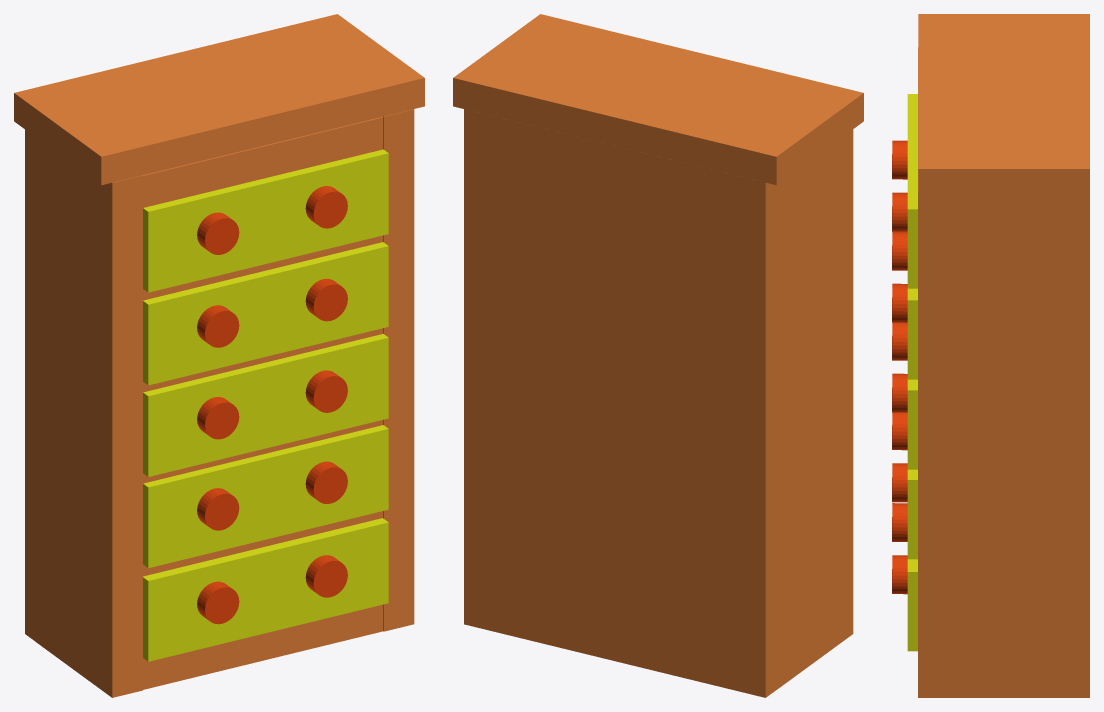
File: dresser.fbx
The picture shows the model from 3 angles, left to right: view 1: azimuth 30°, elevation 25°; view 2: azimuth 150°, elevation 25°; view 3: azimuth 270°, elevation 25°; orthographic projection.
Visible parts, largest first — view 1: Cabinet, Drawer_005, Drawer_002, Drawer_001, Drawer_003, Drawer_004; view 2: Cabinet; view 3: Cabinet, Drawer_001, Drawer_002, Drawer_005, Drawer_003, Drawer_004.
Part boxes in pixels (x1,y1,x2,y2): Cabinet: (14,14,424,697); Drawer_005: (143,518,388,661); Drawer_002: (143,242,388,385); Drawer_001: (143,149,388,292); Drawer_003: (143,334,388,476); Drawer_004: (143,425,388,568); Cabinet: (453,14,863,697); Cabinet: (918,14,1089,697); Drawer_001: (892,94,917,288); Drawer_002: (892,231,917,379); Drawer_005: (892,503,917,651); Drawer_003: (892,322,917,469); Drawer_004: (892,412,917,559).
Bounding box in the file's own units: 700 × 1124 × 378.
